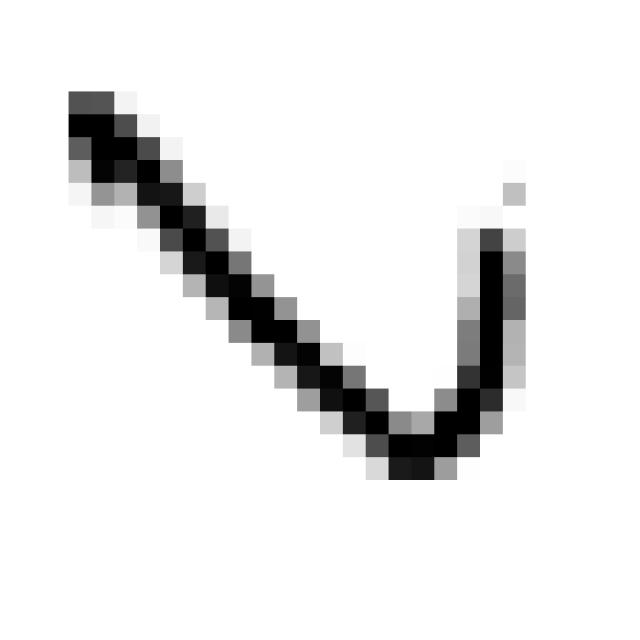7 -seven-: (39, 71, 548, 510)
